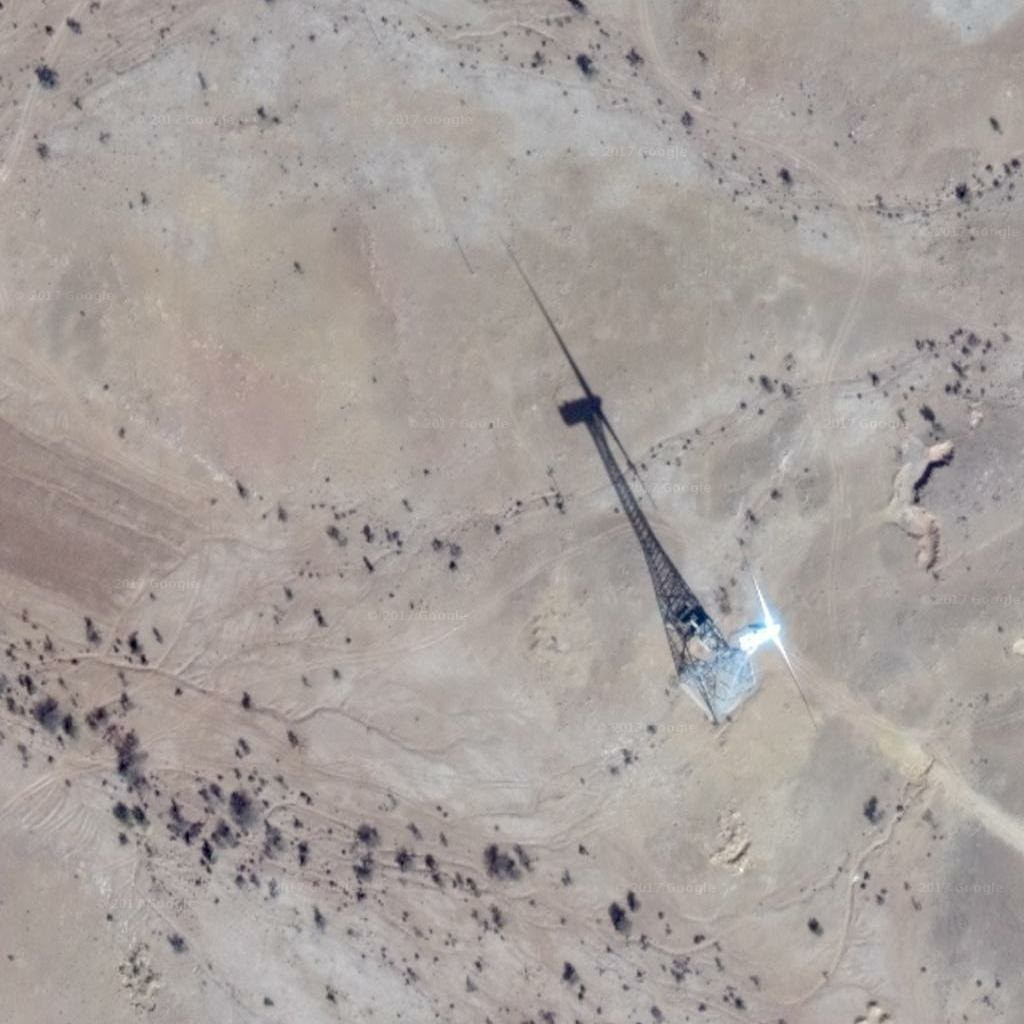Windmill: (494, 283, 746, 671)
